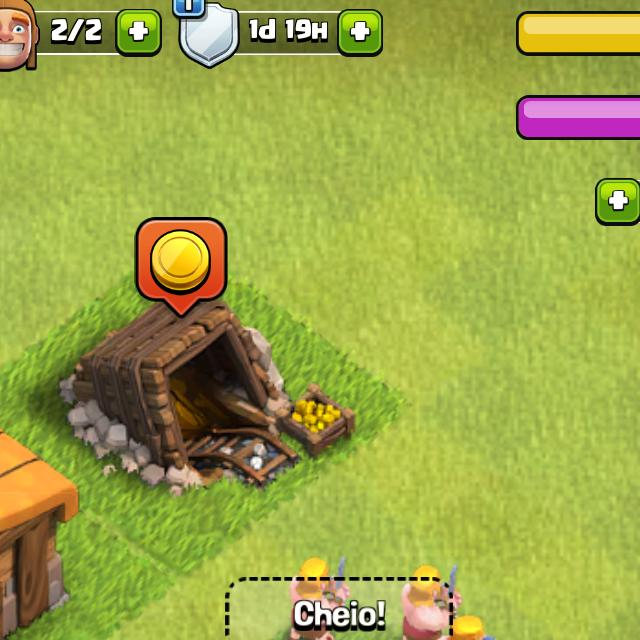FullCoin: (134, 216, 228, 318)
